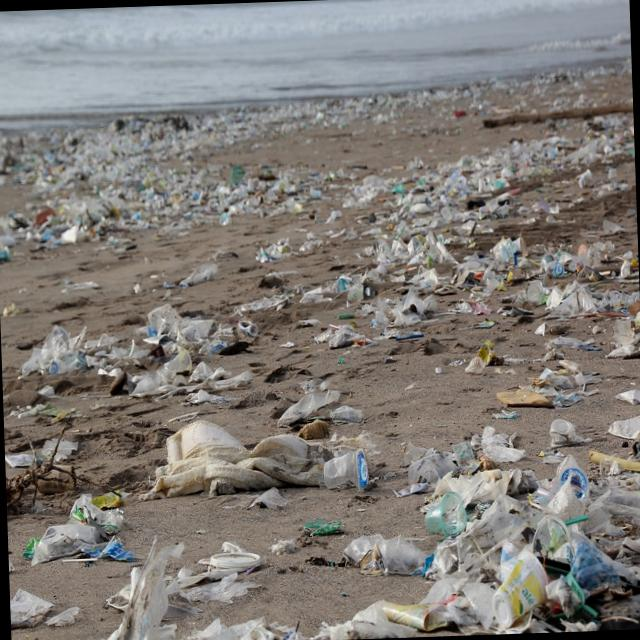garbage: (0, 105, 640, 640), (346, 137, 640, 613), (386, 394, 640, 637)
